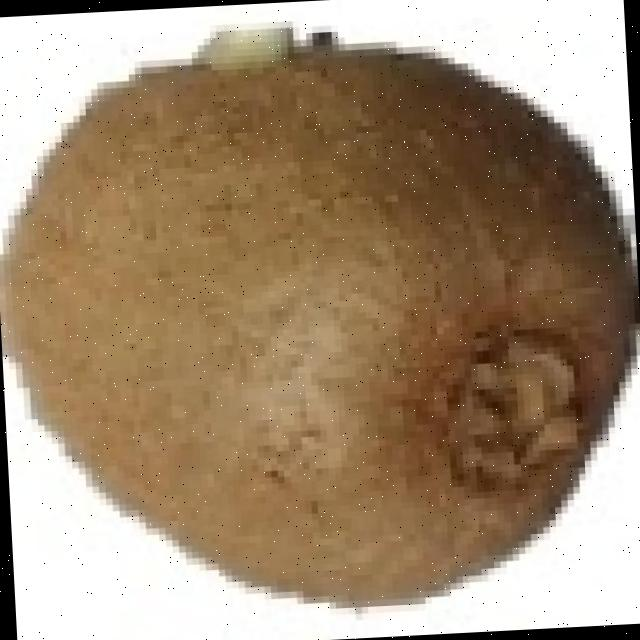kiwi: (2, 47, 618, 614)
